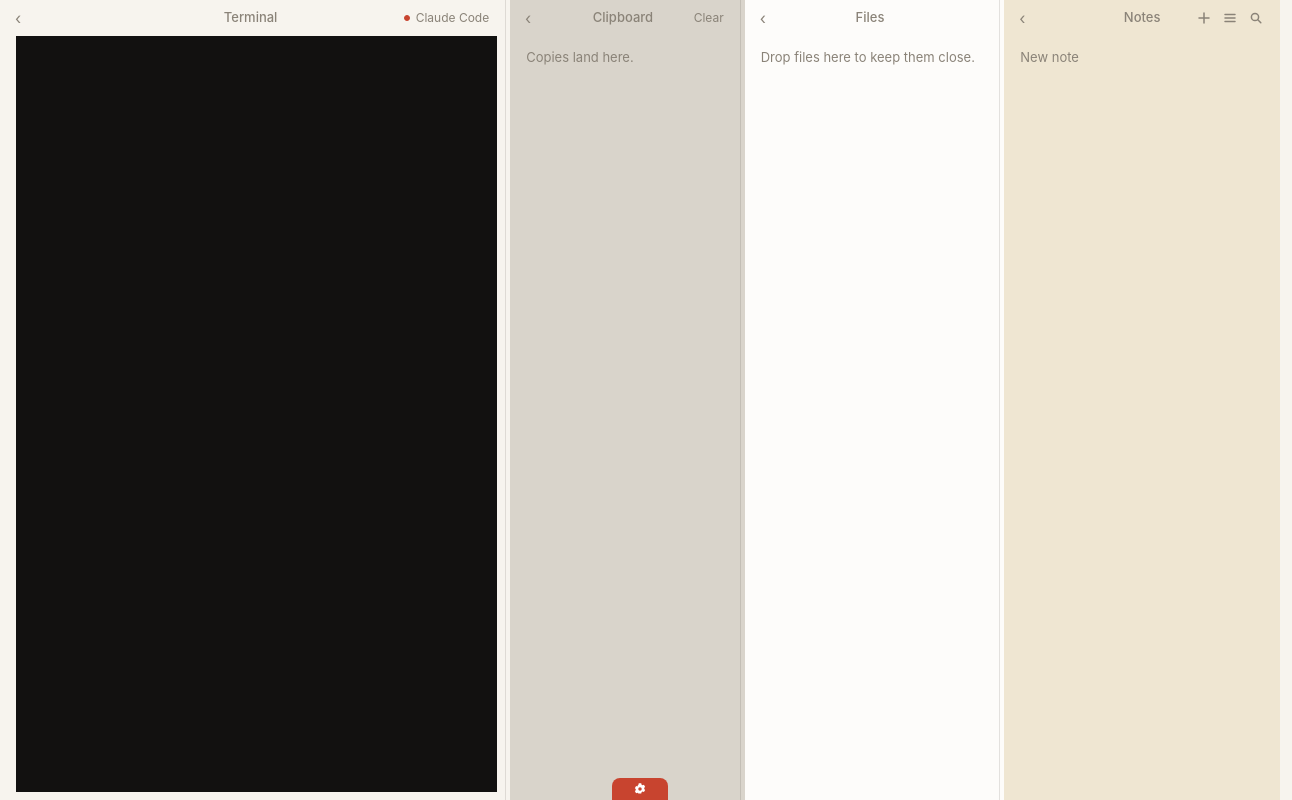
Test: the settings handle › hides or shows the menu-bar icon, following the saved setting and later changes
Click the button named "Settings": x=640, y=789 612,778 -> 668,799
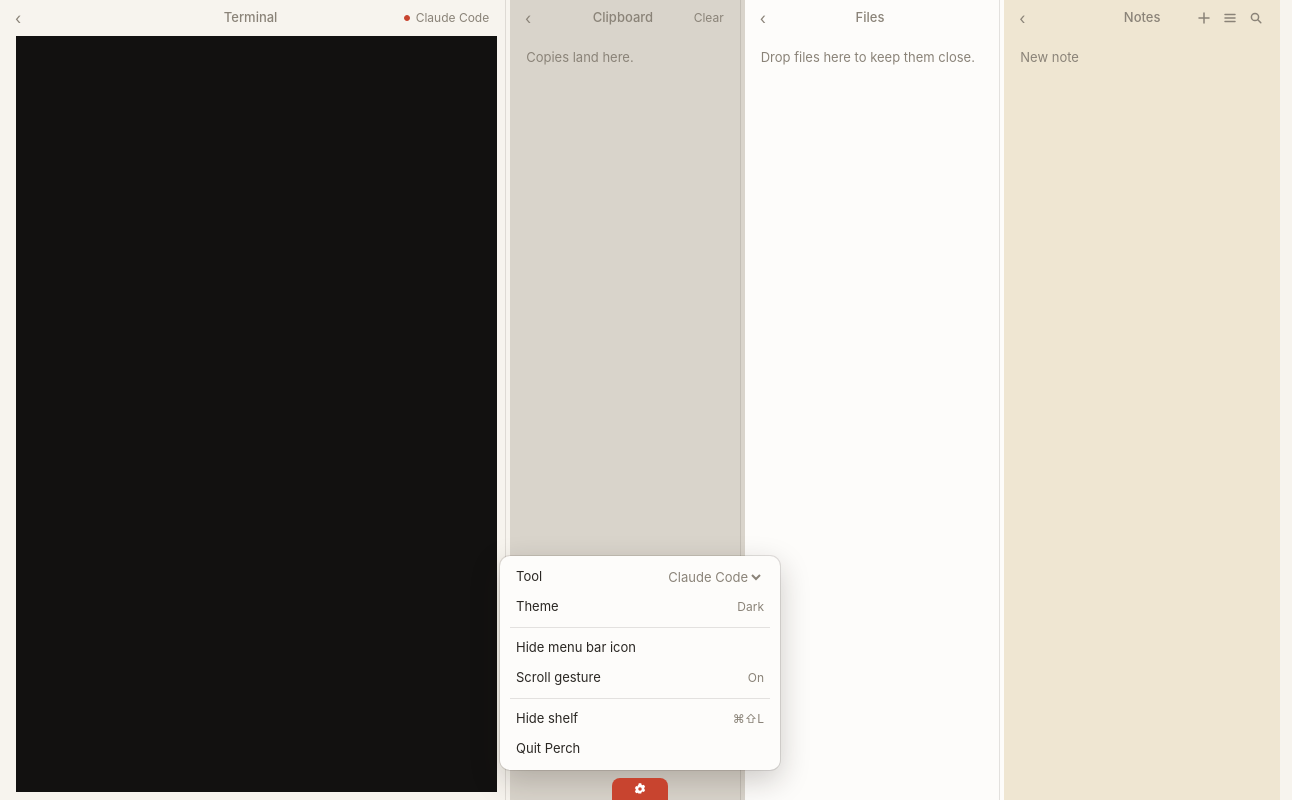
Click the button "Hide menu bar icon": x=576, y=647 506,633 -> 774,663
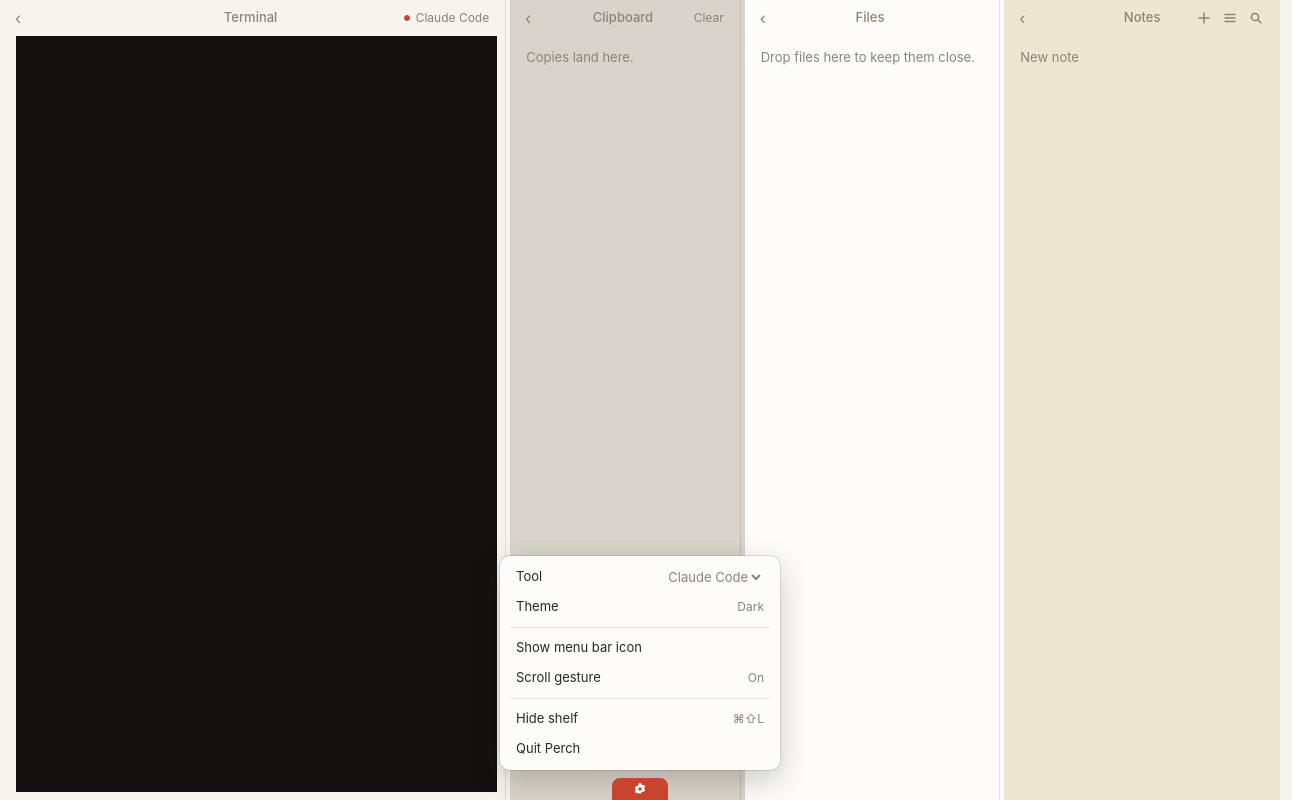
Click the button "Show menu bar icon": x=640, y=648 506,633 -> 774,663
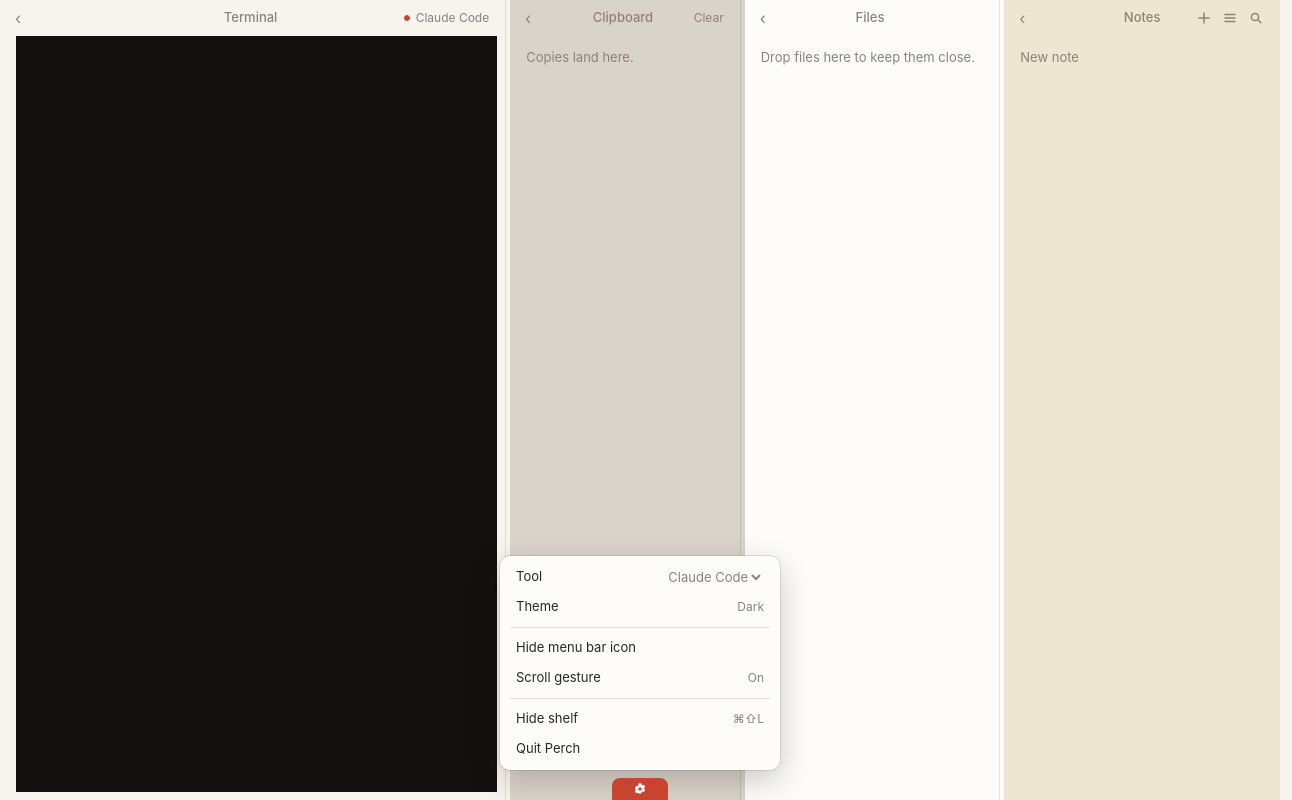
Expected: the button "Hide menu bar icon" is shown, 506,633 -> 774,663
